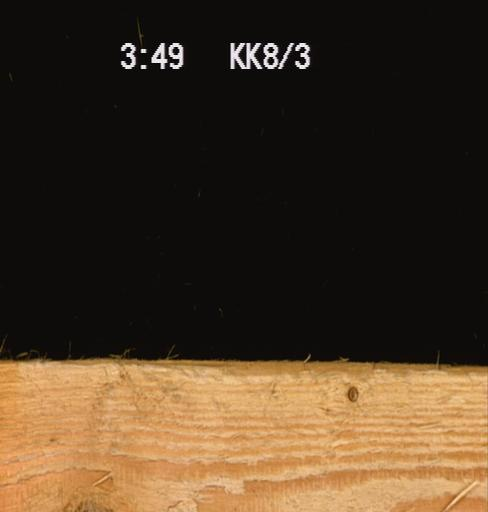dry_knot: (345, 382, 359, 403)
wave: (61, 358, 487, 377)
